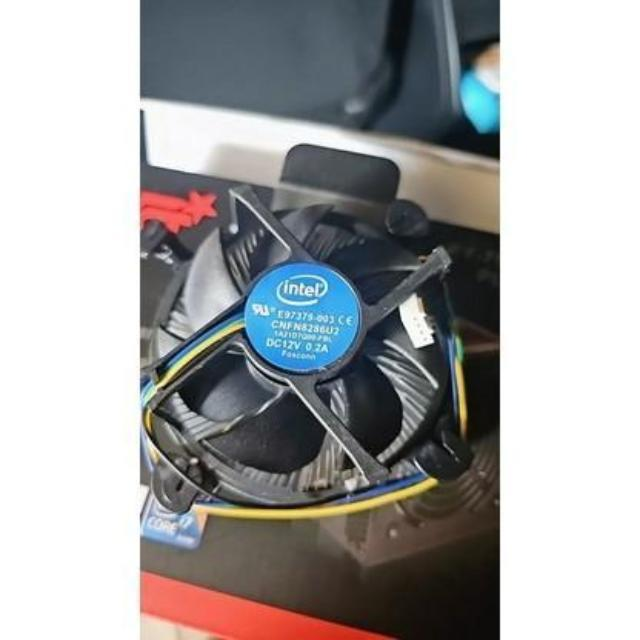CPU_Fan: (141, 184, 473, 522)
